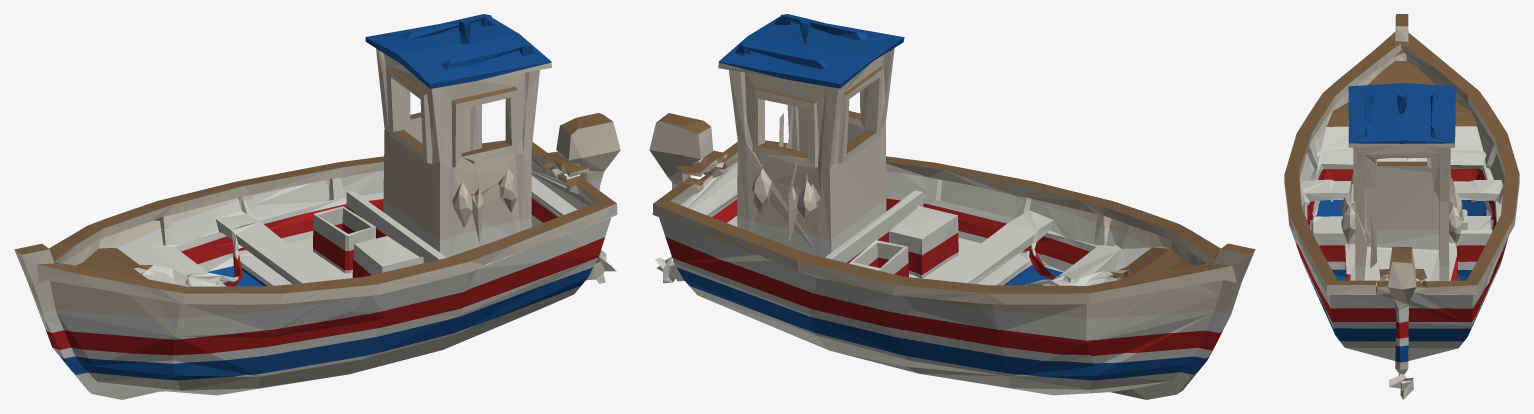
File: barco.glb
The picture shows the model from 3 angles, left to right: view 1: azimuth 30°, elevation 25°; view 2: azimuth 150°, elevation 25°; view 3: azimuth 270°, elevation 25°; orthographic projection. The views are drawn at different scales.
Visible parts, largest first — view 1: detail; view 2: detail; view 3: detail.
Boxes of the visible parts, box(x1,y1,x2,y2) form: detail: box(14, 14, 620, 399); detail: box(649, 14, 1255, 399); detail: box(1284, 14, 1519, 399).
Size of the model in its own units: 3.4 by 1.75 by 1.39.
